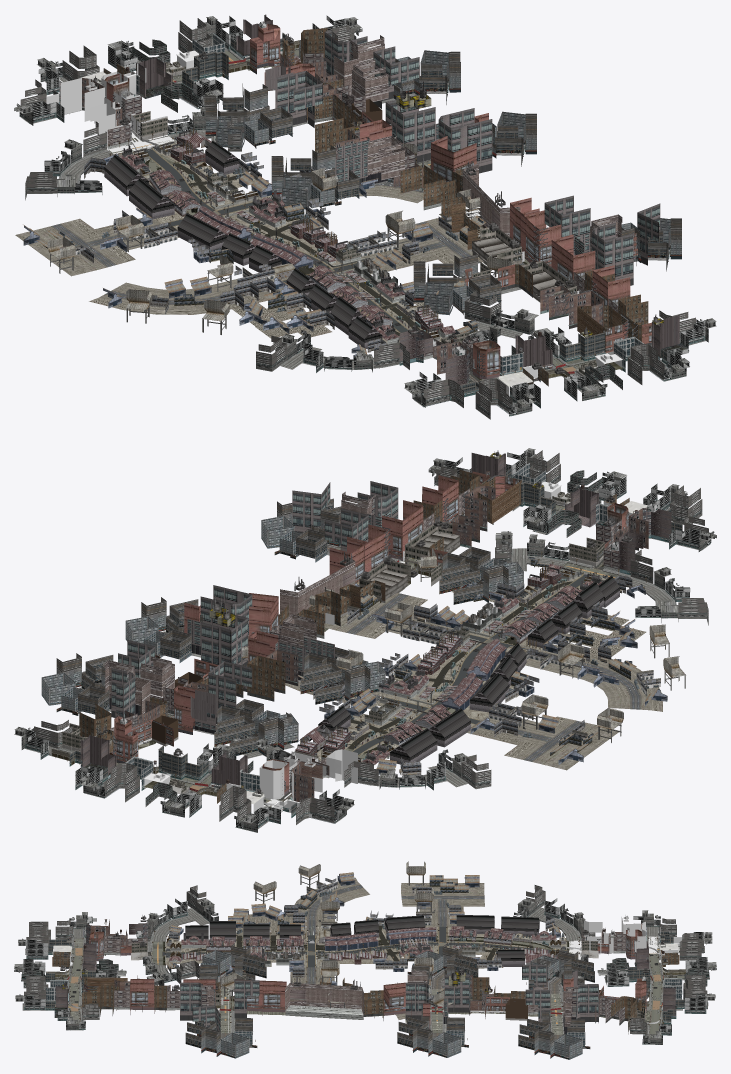
The model's file is city-v3.glb.
3 renders of one model, top to bottom at view 1: azimuth 30°, elevation 25°; view 2: azimuth 150°, elevation 25°; view 3: azimuth 270°, elevation 25°, orthographic. The views are drawn at different scales.
Parts seen in each view (by area): view 1: City; view 2: City; view 3: City.
Part boxes in pixels (x1=…): City: x1=14, y1=14, x2=716, y2=419; City: x1=14, y1=448, x2=716, y2=832; City: x1=14, y1=861, x2=716, y2=1059.
Bounding box in the file's own units: 14.65 × 2.16 × 23.9.
Materials: 100 (99 with a texture image).
